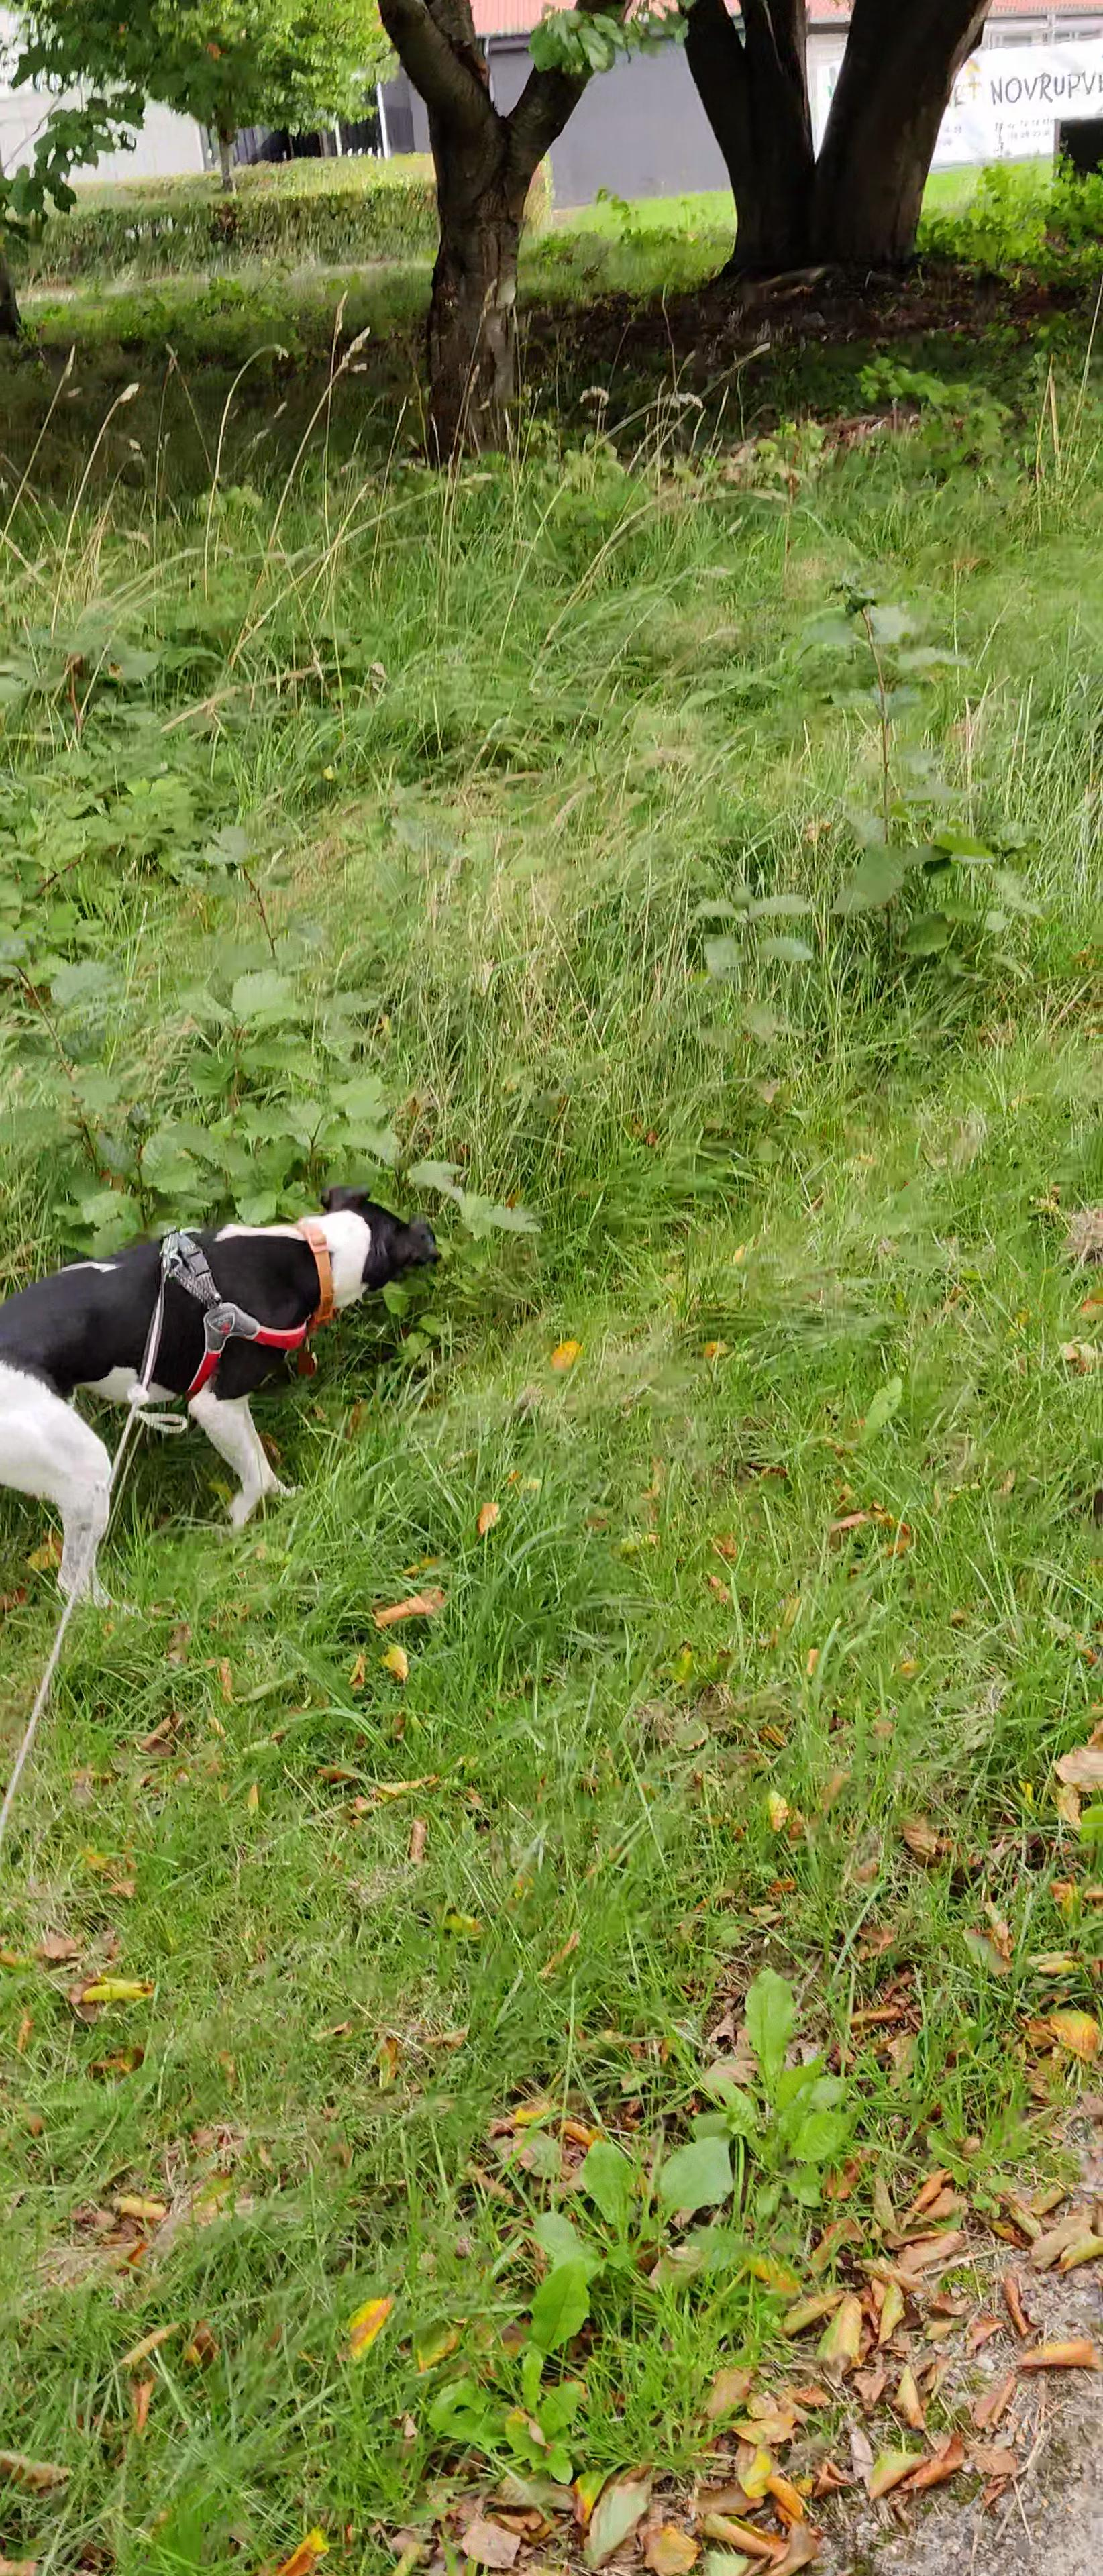Dog: (0, 1161, 459, 1646)
